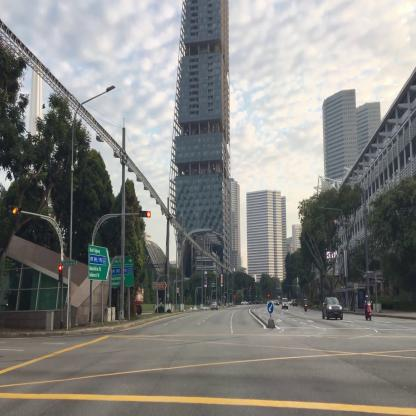red_traffic_light: (140, 210, 150, 218)
